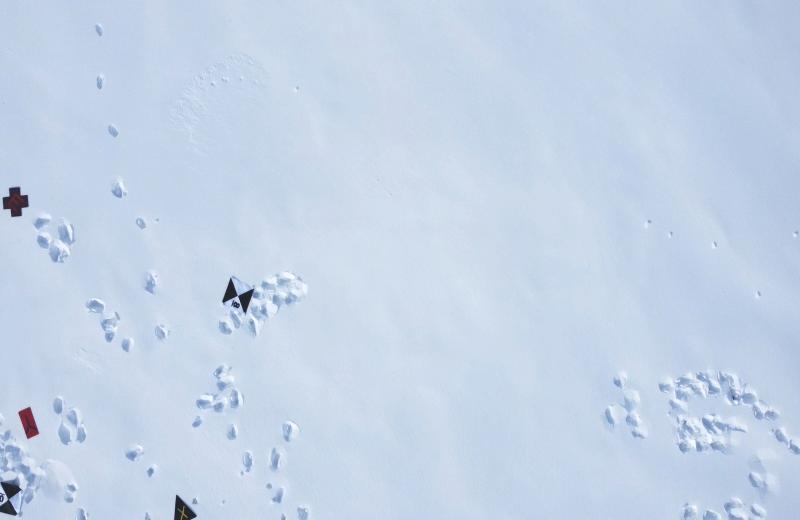Cross: (2, 180, 34, 222)
Rectangle: (14, 399, 45, 441)
Triangle: (167, 493, 197, 520)
